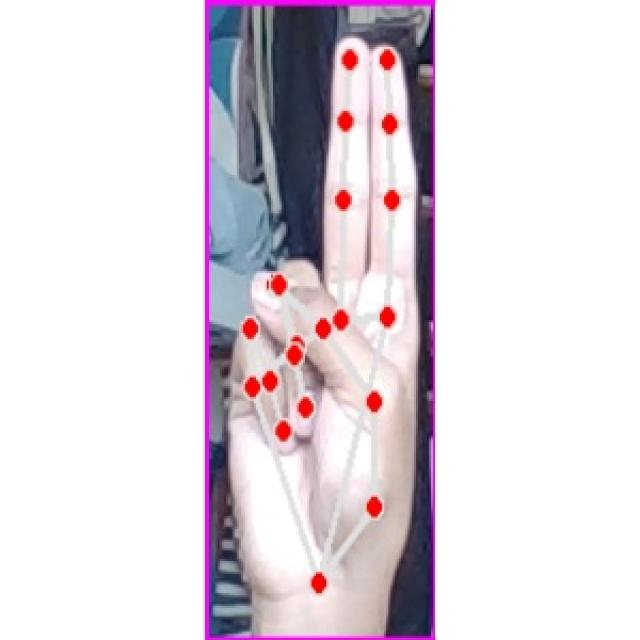U: (220, 31, 426, 622)
